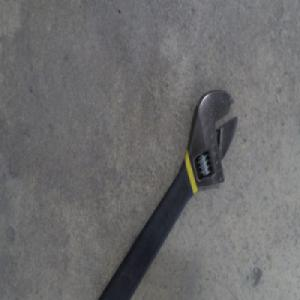AdjustableWrench: (100, 88, 240, 299)
